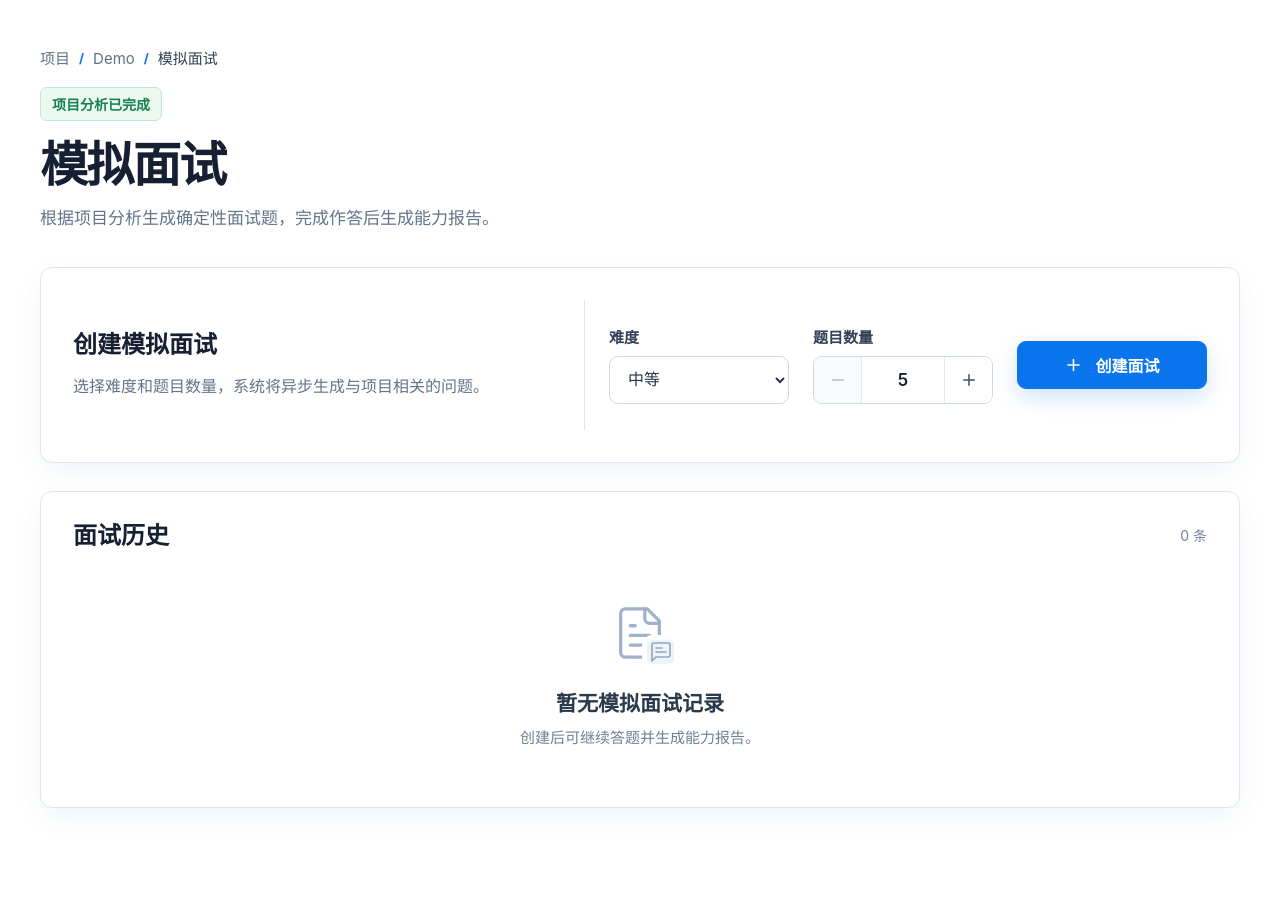
Test: InterviewHistoryClient › recovers interview history when creation returns a duplicate-task conflict
Click the button "创建面试" at (1112, 365), box x1=1017 y1=341 x2=1207 y2=389
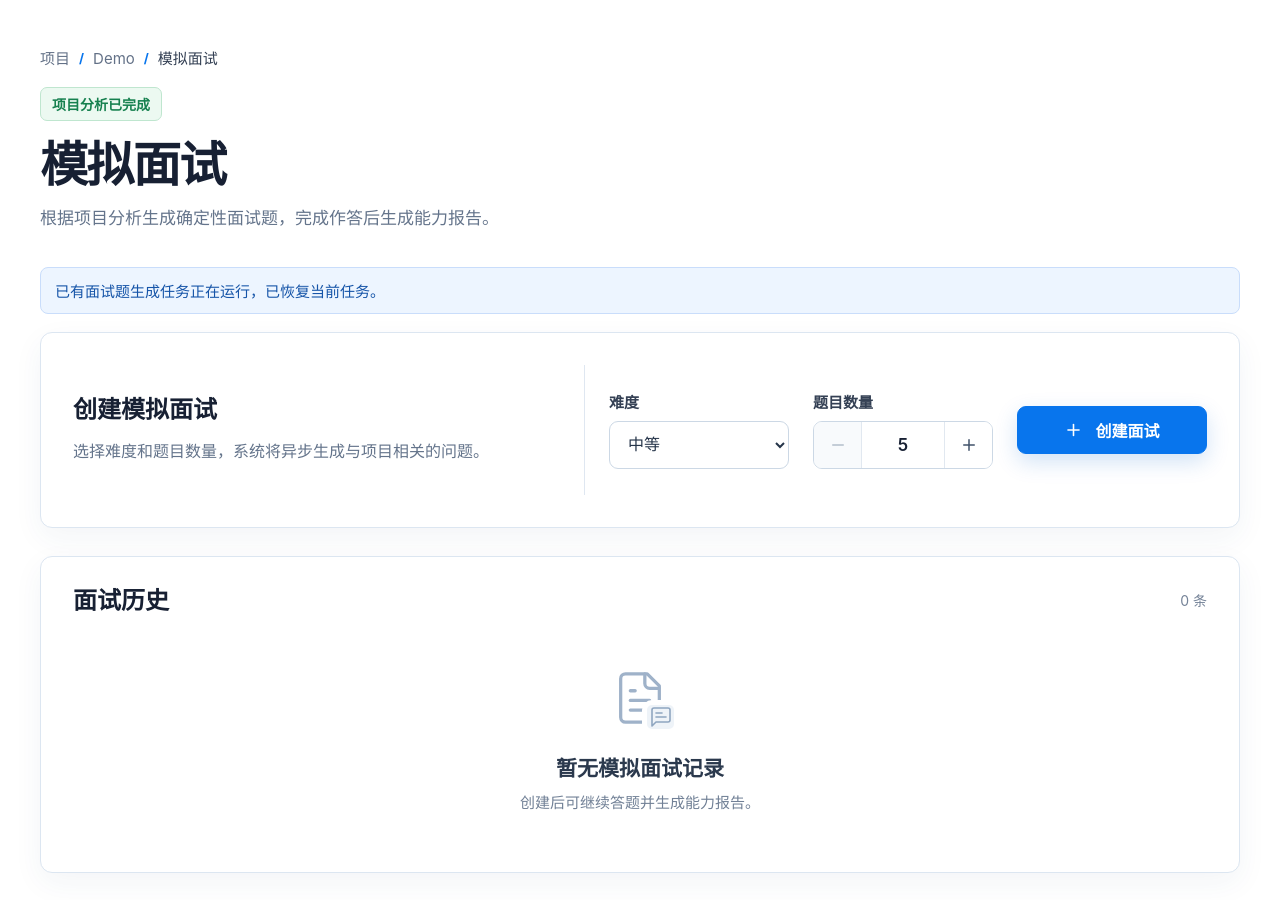
Check: the text "已有面试题生成任务正在运行，已恢复当前任务。" is shown, box x1=40 y1=267 x2=1240 y2=314
